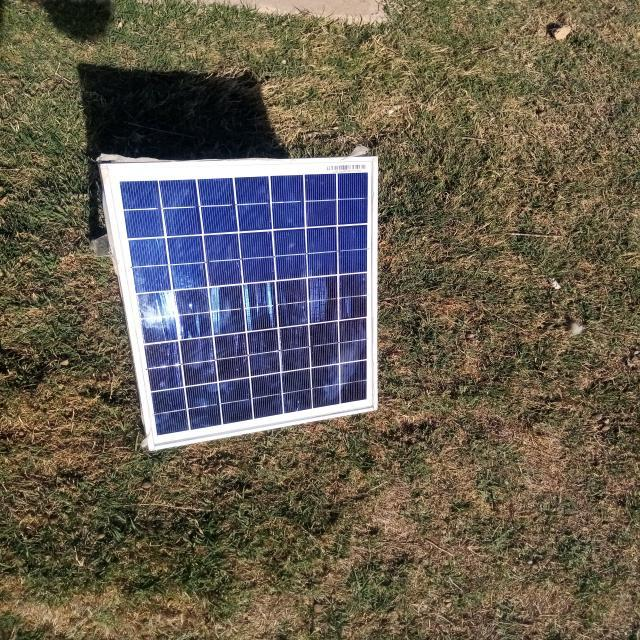no faulty: (101, 157, 379, 450)
